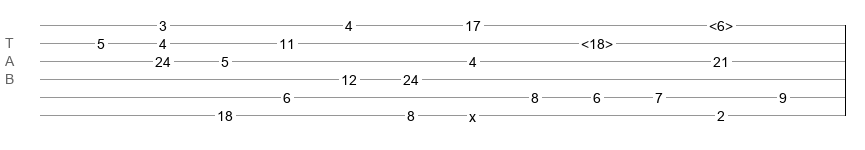11: (279, 36, 295, 46)
12: (341, 72, 357, 82)
17: (465, 18, 481, 28)
18: (217, 108, 233, 118)
2: (717, 108, 725, 118)
21: (713, 54, 729, 64)
24: (155, 54, 171, 64), (403, 72, 419, 82)
3: (159, 18, 167, 28)
4: (159, 36, 167, 46), (345, 18, 353, 28), (469, 54, 477, 64)
5: (97, 36, 105, 46), (221, 54, 229, 64)
6: (283, 90, 291, 100), (593, 90, 601, 100)
7: (655, 90, 663, 100)
8: (407, 108, 415, 118), (531, 90, 539, 100)
9: (779, 90, 787, 100)
harmonic: (581, 36, 613, 46), (709, 18, 733, 28)
x: (469, 109, 476, 117)
